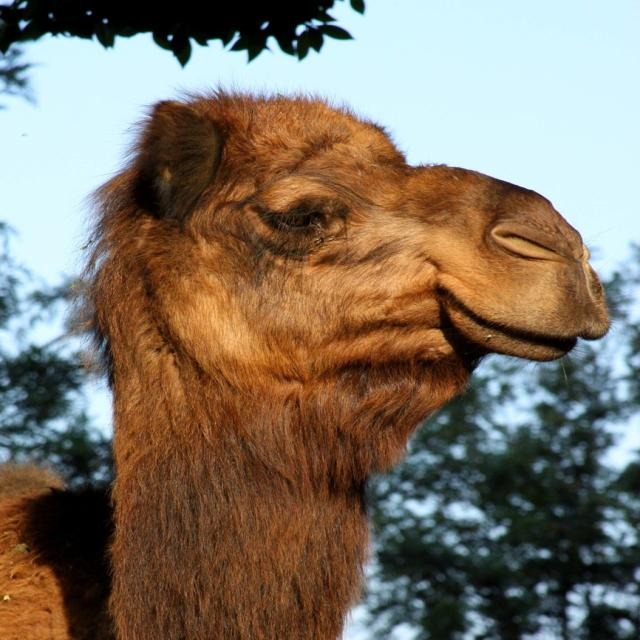camel: (55, 57, 622, 590)
